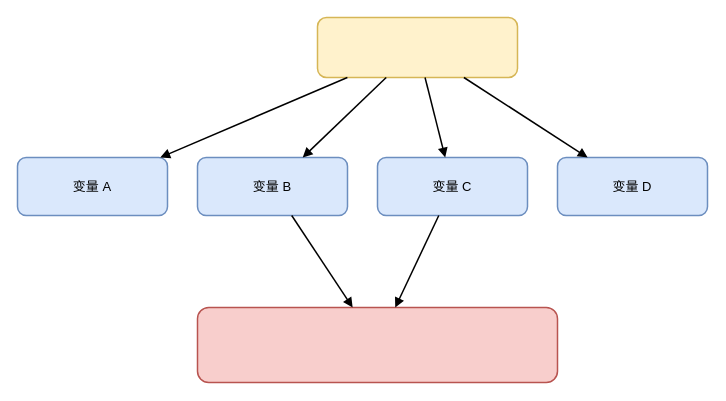
Image size: 726x401. Some labels were removed from this diagram. Here are the shapes that lost their labels. From the top down, the centre of each, then its label:
At (417,47): "Cache Line 通常 64B".
At (377,344): "同一缓存行被多个线程写 可能产生伪共享".
